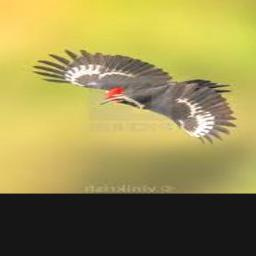Woodpecker: (31, 49, 238, 144)
